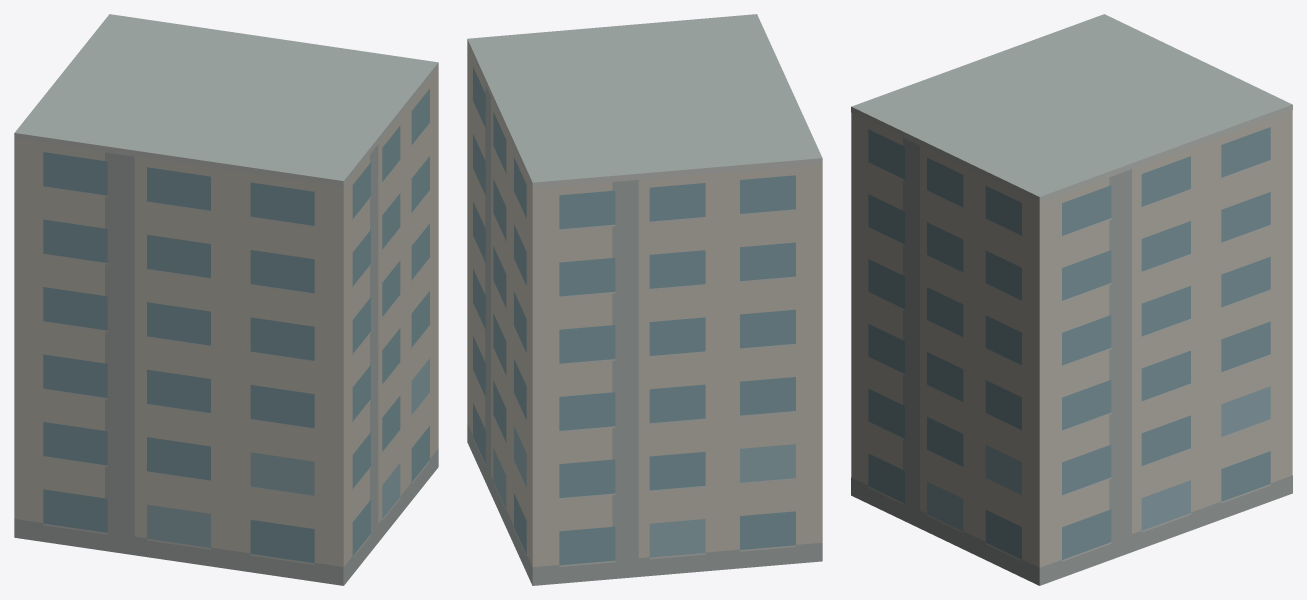
The model's file is survey-upis-32850324.glb.
3 renders of one model, left to right at view 1: azimuth 30°, elevation 25°; view 2: azimuth 150°, elevation 25°; view 3: azimuth 270°, elevation 25°, orthographic. The views are drawn at different scales.
Parts seen in each view (by area): view 1: survey-upis-32850324.tmp; view 2: survey-upis-32850324.tmp; view 3: survey-upis-32850324.tmp.
Part boxes in pixels (x1,y1,x2,y2): survey-upis-32850324.tmp: [14, 14, 438, 585]; survey-upis-32850324.tmp: [467, 14, 822, 585]; survey-upis-32850324.tmp: [851, 14, 1292, 585].
Size of the model in its own units: 16.05 by 15.9 by 16.37.
